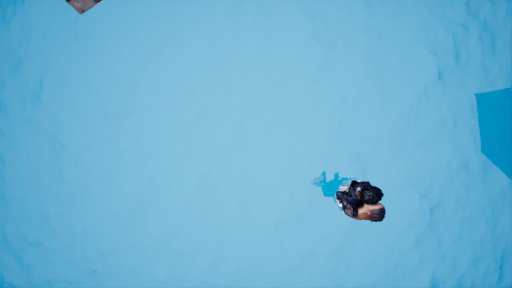person: (311, 169, 394, 229)
